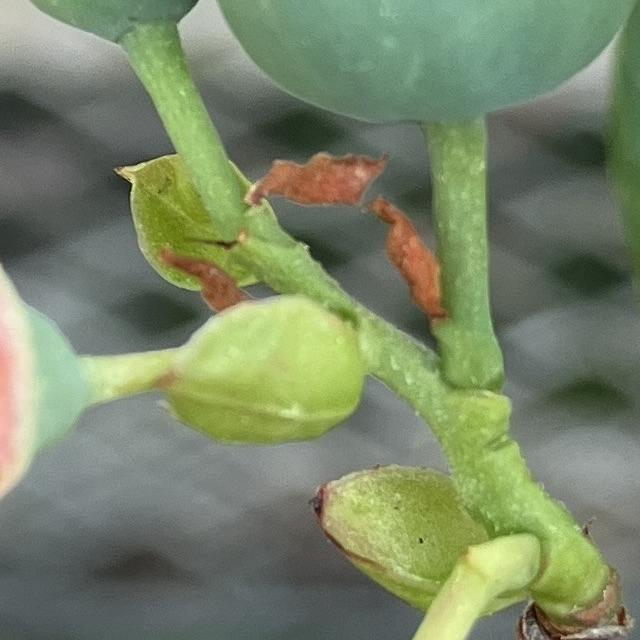Blueberries: (200, 0, 640, 126)
